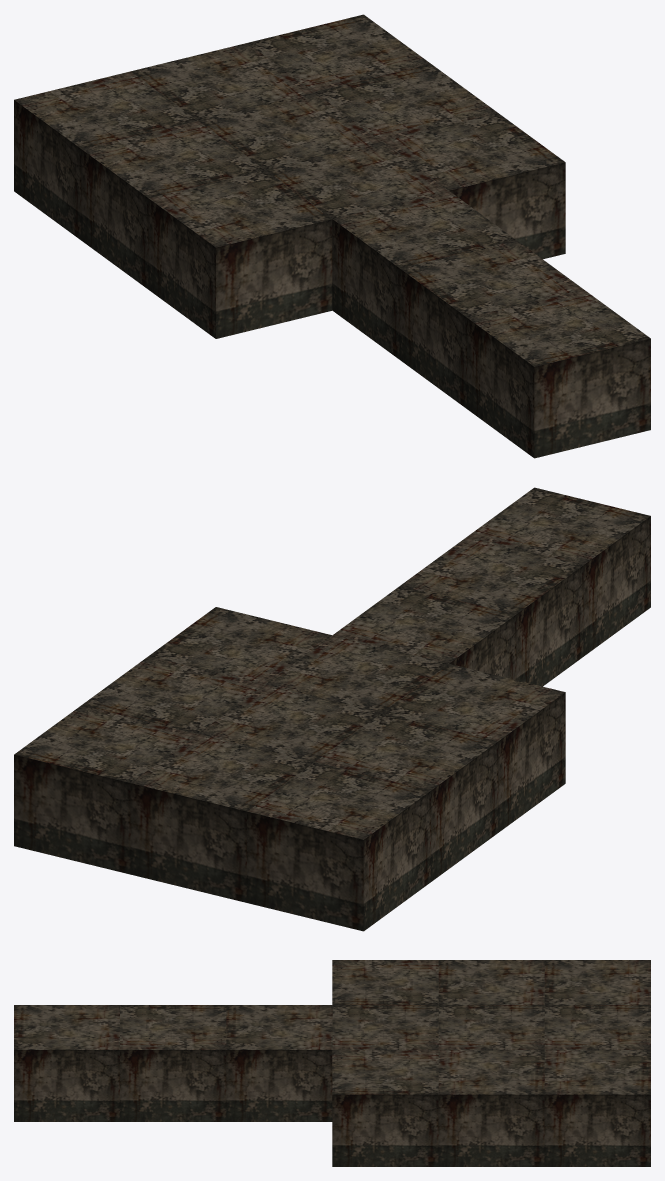
File: prison.glb
3 views of the same model, one above another, from view 1: azimuth 30°, elevation 25°; view 2: azimuth 150°, elevation 25°; view 3: azimuth 270°, elevation 25° (orthographic). The views are drawn at different scales.
Visible parts, largest first — view 1: prision; view 2: prision; view 3: prision.
Part boxes in pixels (<box>): prision: <box>14,14,650,458</box>; prision: <box>14,487,650,931</box>; prision: <box>14,960,650,1166</box>.
Bounding box in the file's own units: 12 × 3 × 24.
1 material, 1 textured.
